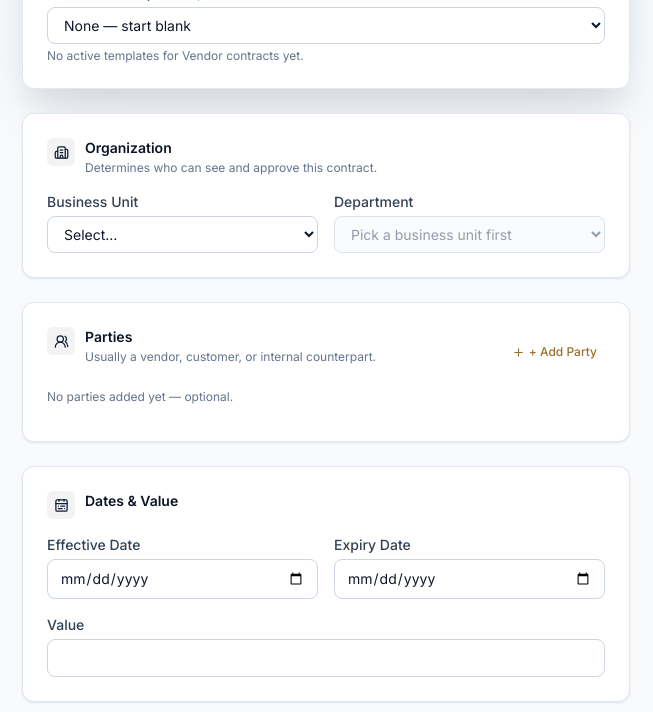
Test case: ContractCreatePage — Parties and Effective Date › removes a party row when Remove is clicked
(page scrolled)
Click the button "+ Add Party" at (554, 352), box [504, 340, 605, 364]
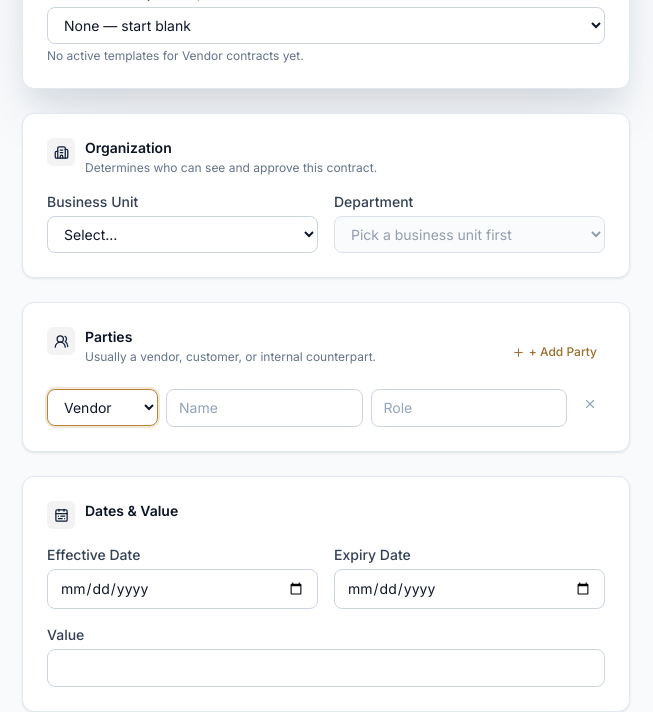
Expected: the field named "Party 1 name" is shown, [166, 389, 362, 427]
Click the button named "Remove party 1" at (590, 404), box [575, 389, 605, 419]
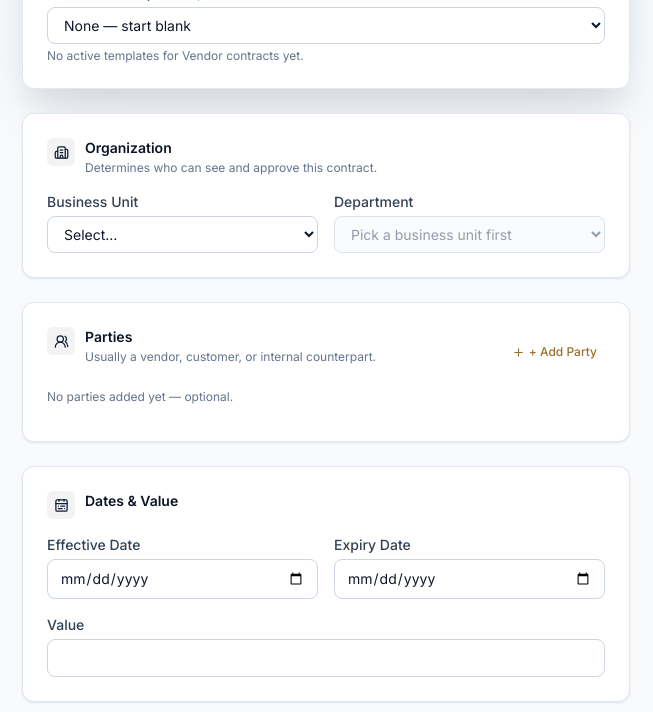
Expected: the dropdown labelled "Party 1 name" is gone
